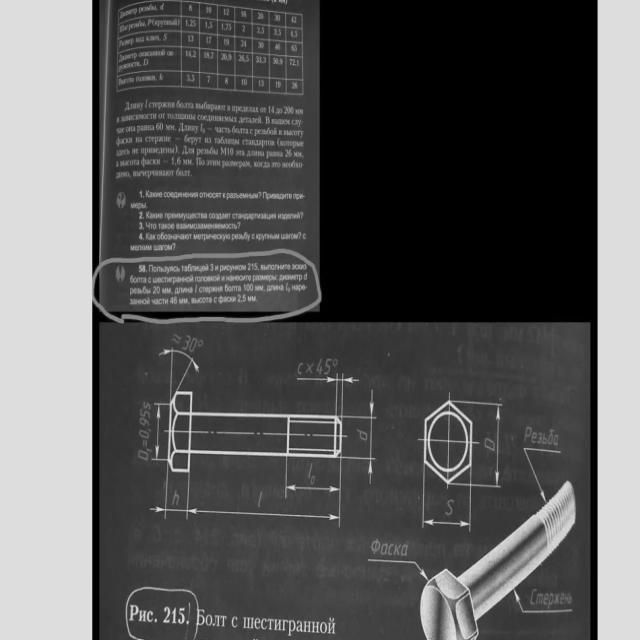marking_line: (188, 507, 338, 522), (287, 483, 341, 493), (425, 519, 469, 530), (495, 407, 501, 485), (155, 406, 161, 460), (296, 376, 336, 384), (368, 389, 376, 417), (147, 503, 164, 514), (368, 460, 373, 490), (344, 375, 358, 385)
numeric: (138, 408, 150, 442), (315, 358, 333, 375), (183, 335, 197, 353)
special_symbol: (522, 445, 557, 502), (512, 590, 578, 619), (160, 350, 203, 390), (366, 558, 423, 587)
